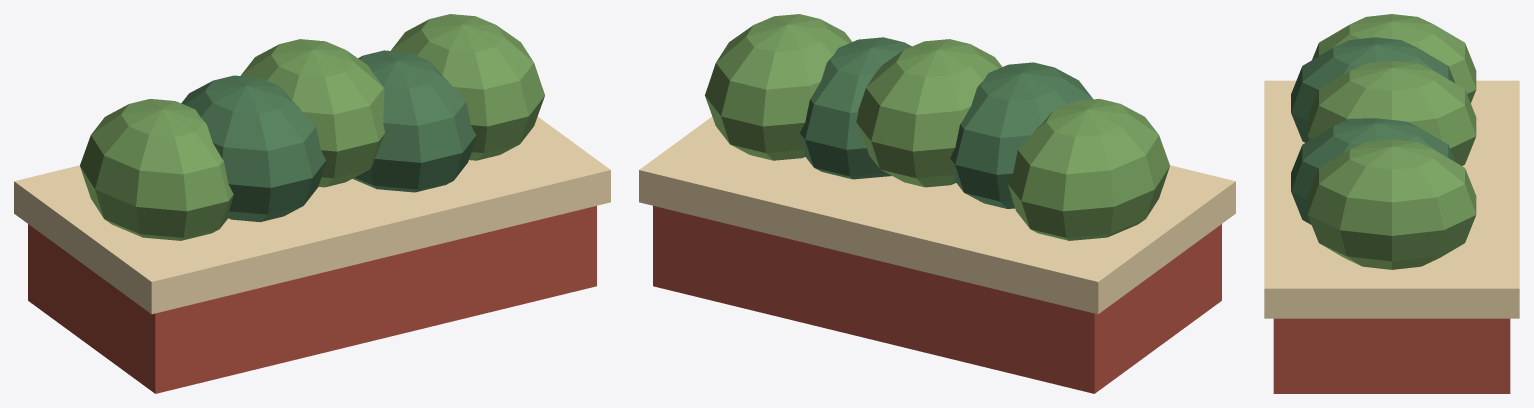
Rendered from planter.glb.
The picture shows the model from 3 angles, left to right: view 1: azimuth 30°, elevation 25°; view 2: azimuth 150°, elevation 25°; view 3: azimuth 270°, elevation 25°; orthographic projection. The views are drawn at different scales.
Visible parts, largest first — view 1: planter; view 2: planter; view 3: planter.
Part boxes in pixels (left/top/right/bottom): planter: left=14, top=14, right=610, bottom=393; planter: left=639, top=14, right=1235, bottom=393; planter: left=1264, top=14, right=1519, bottom=393.
Bounding box in the file's own units: 2.08 × 1.05 × 1.08.
